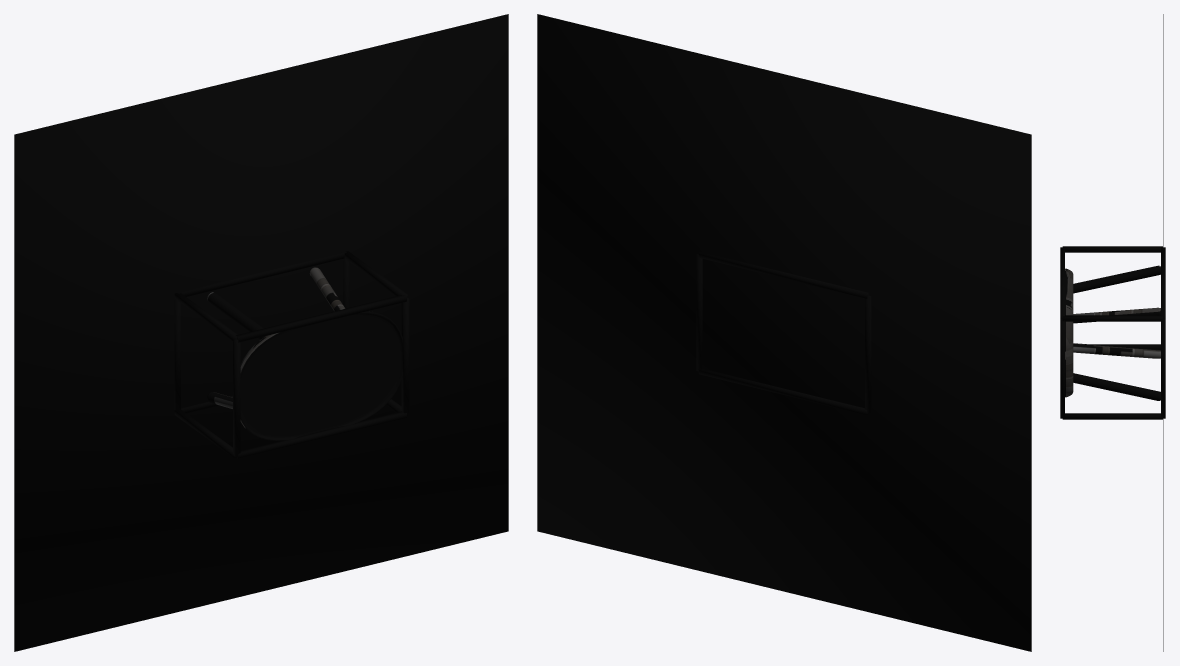
The picture shows the model from 3 angles, left to right: view 1: azimuth 30°, elevation 25°; view 2: azimuth 150°, elevation 25°; view 3: azimuth 270°, elevation 25°; orthographic projection. The views are drawn at different scales.
Bounding box in the file's own units: 2 × 2 × 0.4386.
